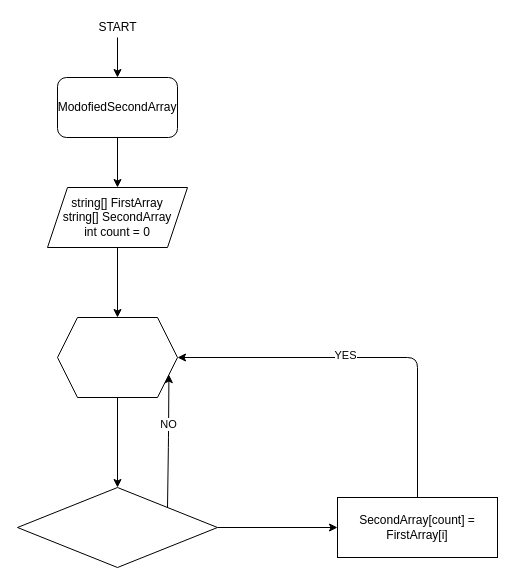
Some shapes in this 515 by 585 pixel diagram are drawn without their labels. The centre of each missing label's shape, as x and y in pixels:
"for( int i = 0; i<FirstArray.length; i++)" goes at pixel 117 357.
"if(FirstArray[i].length <= 3)" goes at pixel 117 527.
